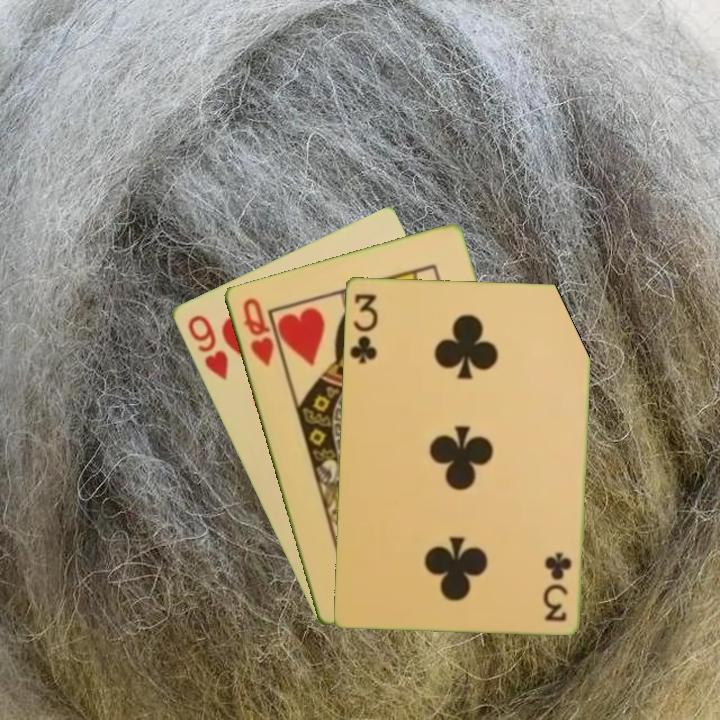3c: (346, 289, 380, 366), (542, 548, 574, 624)
9h: (183, 311, 231, 383)
Qh: (239, 294, 276, 369)
